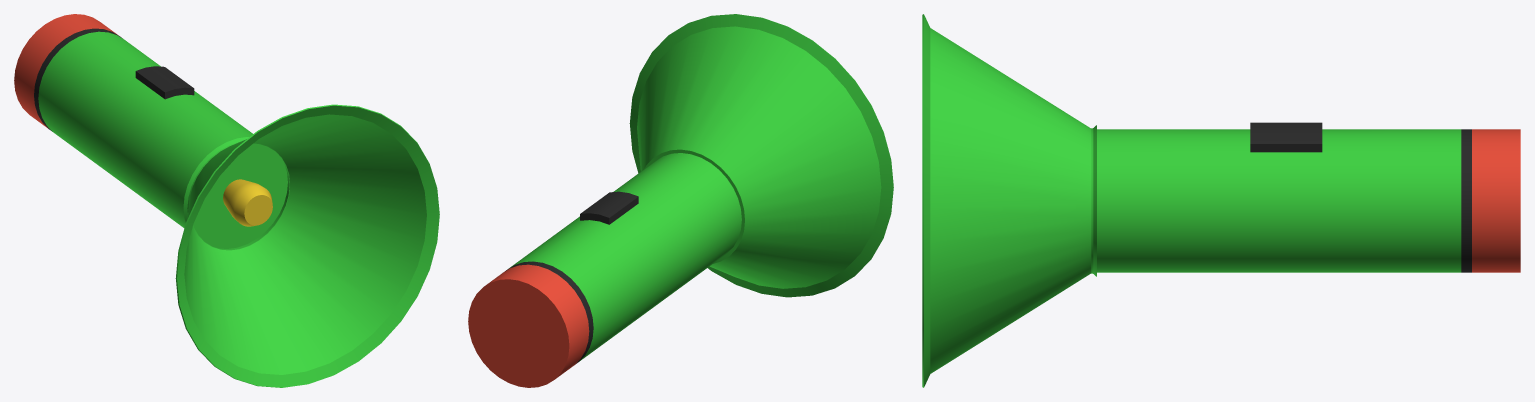
Rendered from torch.fbx.
3 renders of one model, left to right at view 1: azimuth 30°, elevation 25°; view 2: azimuth 150°, elevation 25°; view 3: azimuth 270°, elevation 25°, orthographic. The views are drawn at different scales.
Parts seen in each view (by area): view 1: torch; view 2: torch; view 3: torch.
Boxes of the visible parts, x1,y1,x2,y2 form: torch: (14,14,439,387); torch: (468,14,893,387); torch: (922,14,1520,387).
Size of the model in its own units: 201 by 201 by 322.
